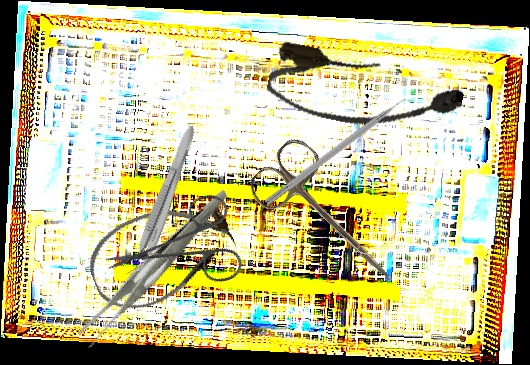Cannula: (77, 187, 246, 322), (263, 39, 467, 146)
Chopper: (264, 91, 419, 214)
Dressing Forceps: (50, 189, 260, 350)
Iris Scissors: (243, 132, 420, 306), (102, 163, 268, 329)
Tissue Forceps: (125, 121, 199, 282)
